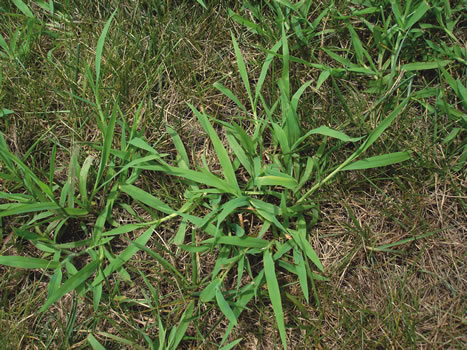crabgrass: (144, 58, 380, 313), (7, 131, 139, 335), (351, 3, 467, 66)
